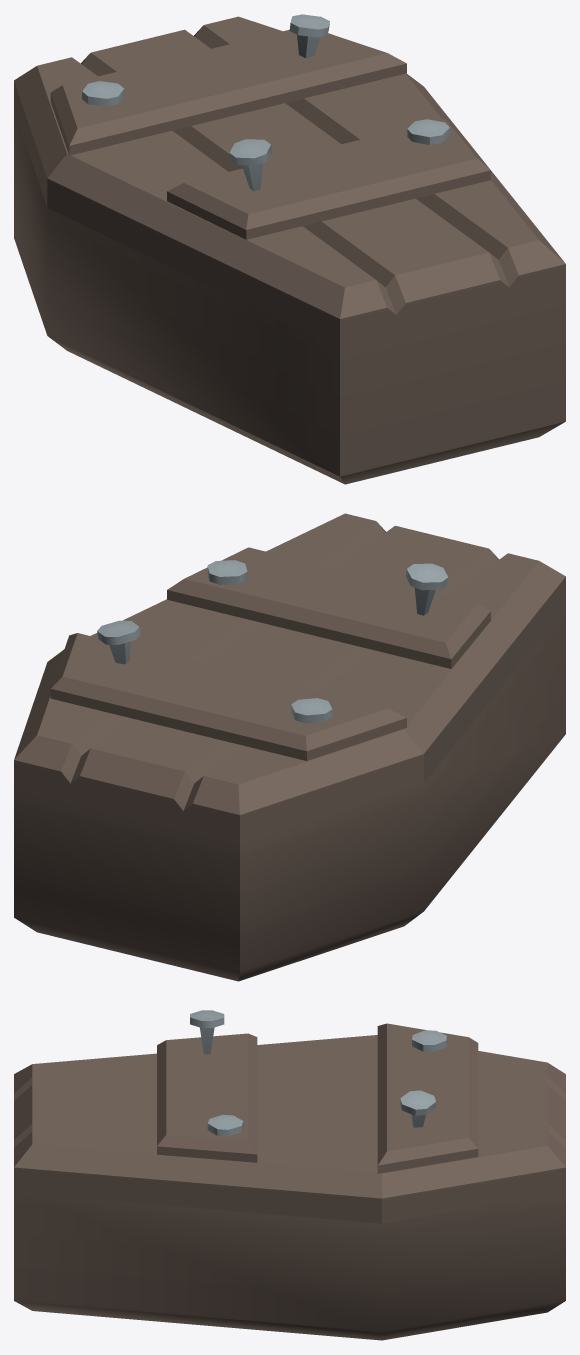
File: hb_coffin.glb
3 renders of one model, top to bottom at view 1: azimuth 30°, elevation 25°; view 2: azimuth 150°, elevation 25°; view 3: azimuth 270°, elevation 25°, orthographic. The views are drawn at different scales.
Parts seen in each view (by area): view 1: coffin_lid, coffin; view 2: coffin_lid, coffin; view 3: coffin_lid, coffin.
Boxes of the visible parts, bbox=[...] form: coffin_lid: bbox=[14, 14, 565, 348]; coffin: bbox=[14, 110, 565, 484]; coffin_lid: bbox=[14, 513, 565, 844]; coffin: bbox=[14, 606, 565, 981]; coffin_lid: bbox=[14, 1010, 565, 1223]; coffin: bbox=[14, 1192, 565, 1340].
Size of the model in its own units: 1.33 by 0.8816 by 2.
1 material, 1 textured.
